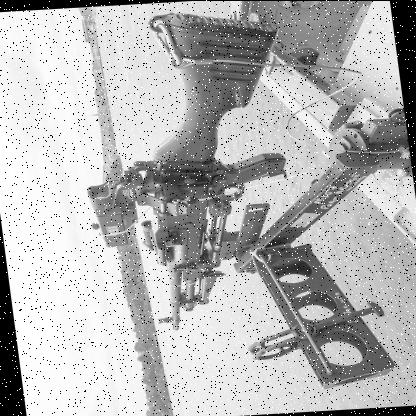rifle: (111, 14, 315, 336)
